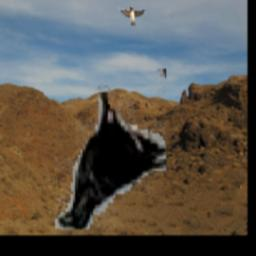Crow: (56, 69, 167, 230)
Swallow: (118, 6, 147, 26)
